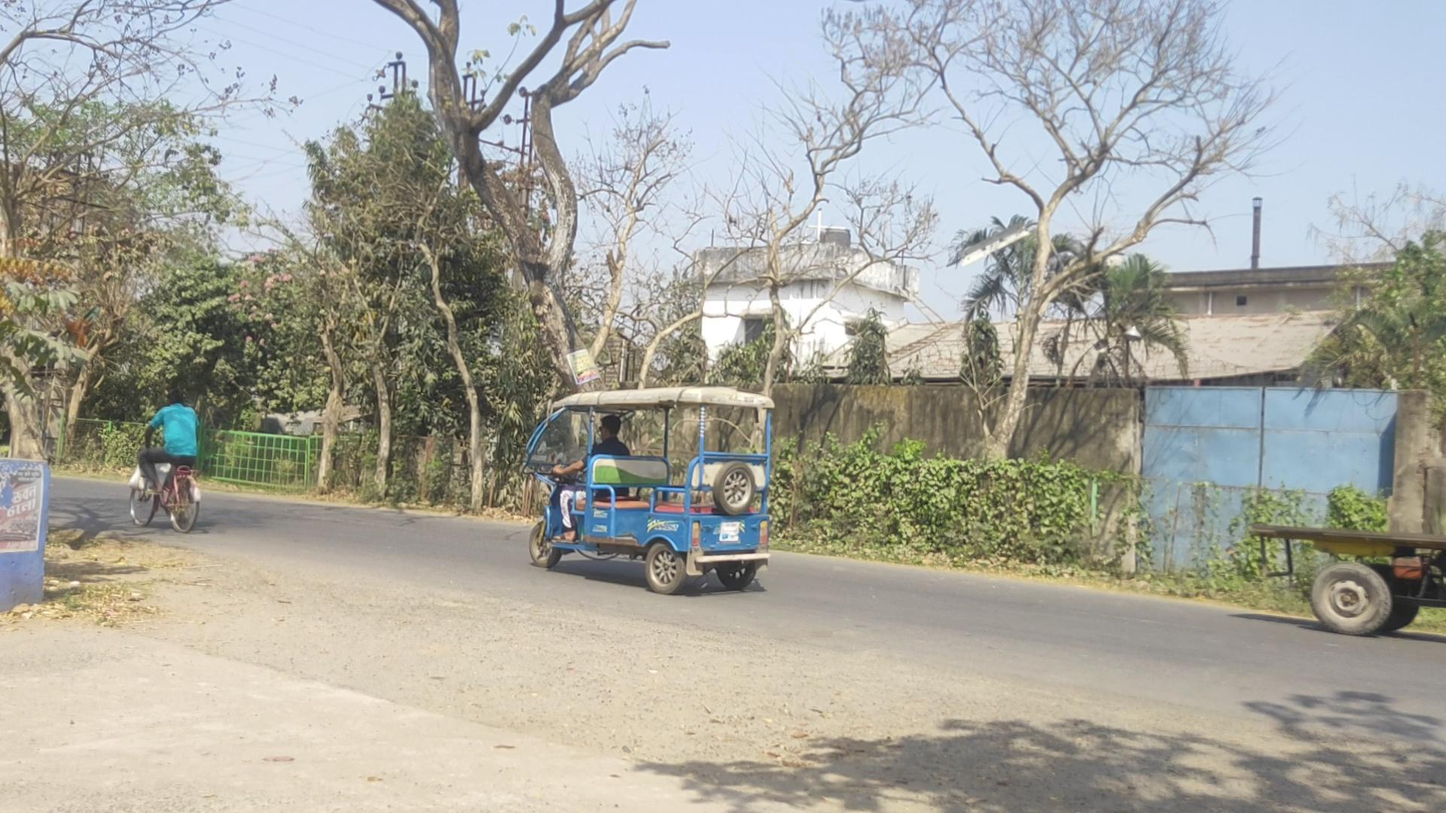Auto: (513, 387, 775, 592)
bike: (128, 390, 200, 533)
